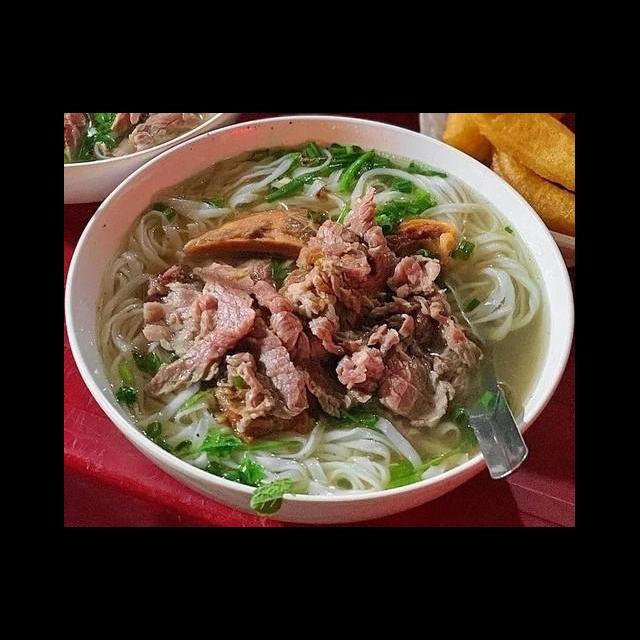banh pho: (198, 411, 472, 504), (146, 138, 338, 233), (438, 189, 548, 345), (94, 204, 186, 390), (324, 143, 476, 237), (110, 378, 218, 475)
pho bo: (70, 141, 575, 527)
thit bo: (140, 258, 262, 402), (330, 322, 460, 431), (366, 293, 488, 402), (318, 182, 404, 333), (272, 216, 376, 324), (138, 275, 242, 366), (248, 278, 352, 363)
